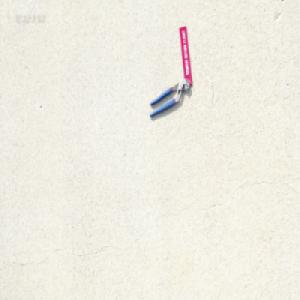Label: (178, 26, 192, 86)
Pliers: (149, 77, 190, 118)
